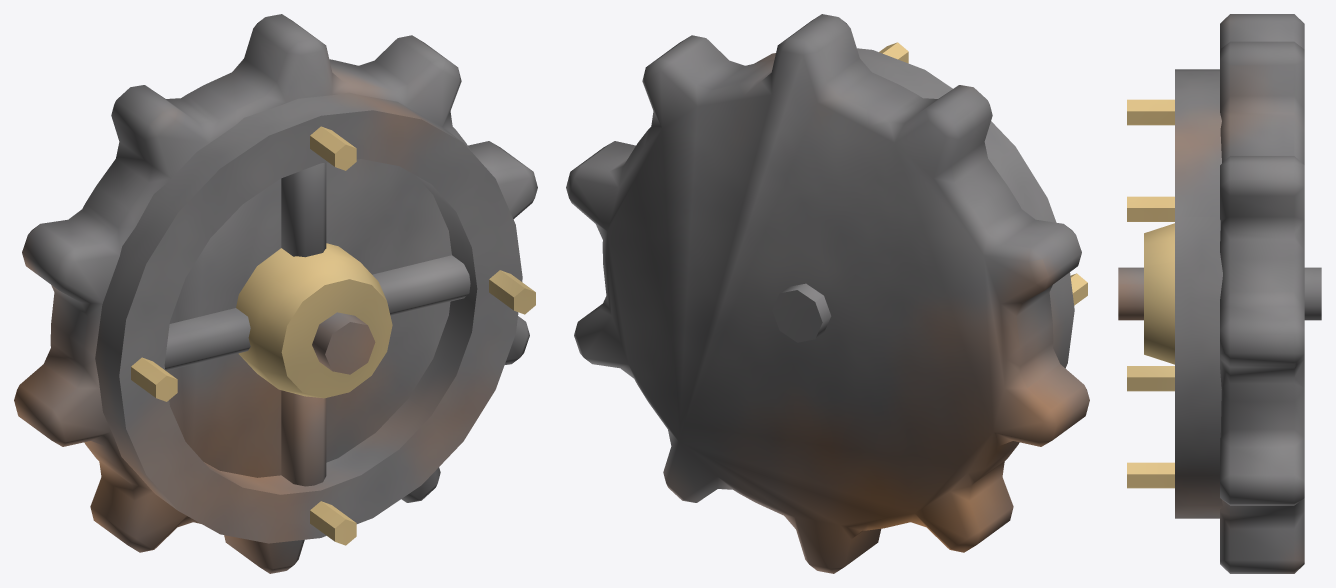
Rendered from gear_small.gltf.
3 renders of one model, left to right at view 1: azimuth 30°, elevation 25°; view 2: azimuth 150°, elevation 25°; view 3: azimuth 270°, elevation 25°, orthographic. The views are drawn at different scales.
Parts seen in each view (by area): view 1: gear_small; view 2: gear_small; view 3: gear_small.
Part boxes in pixels (left/top/right/bottom): gear_small: left=14, top=14, right=537, bottom=573; gear_small: left=566, top=14, right=1089, bottom=573; gear_small: left=1118, top=14, right=1321, bottom=573.
Size of the model in its own units: 0.5839 by 0.5987 by 0.216.
Materials: 1 (1 with a texture image).
